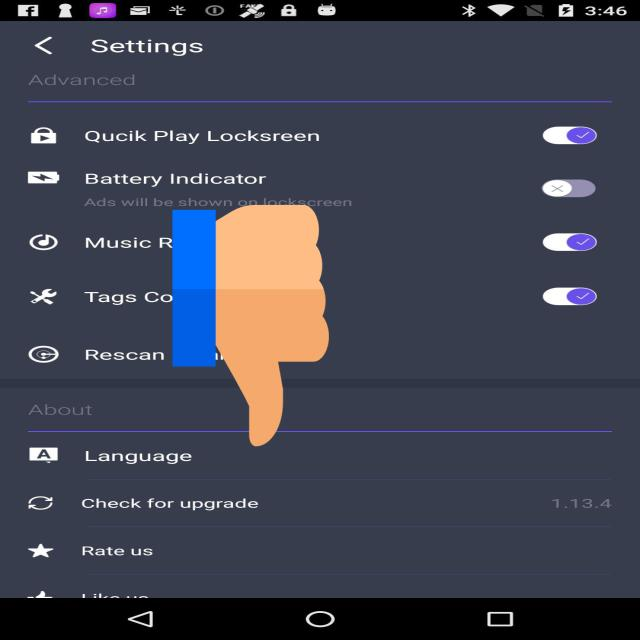obstruction: (172, 199, 329, 452)
